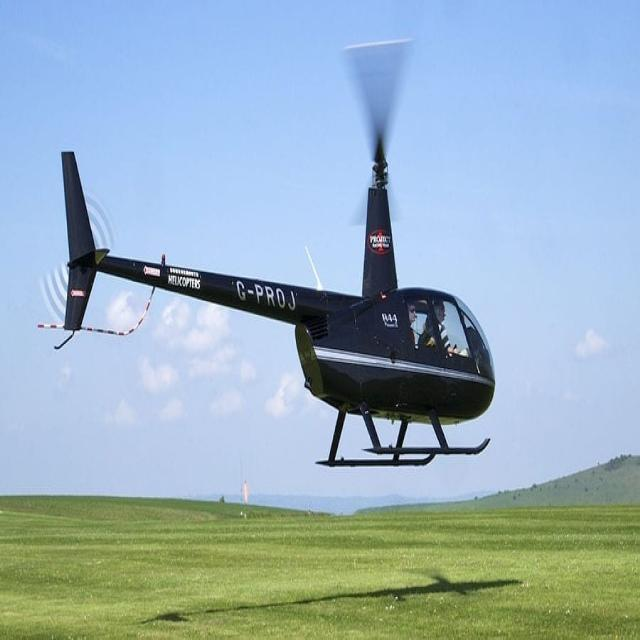CIV_HELO: (59, 136, 497, 470)
